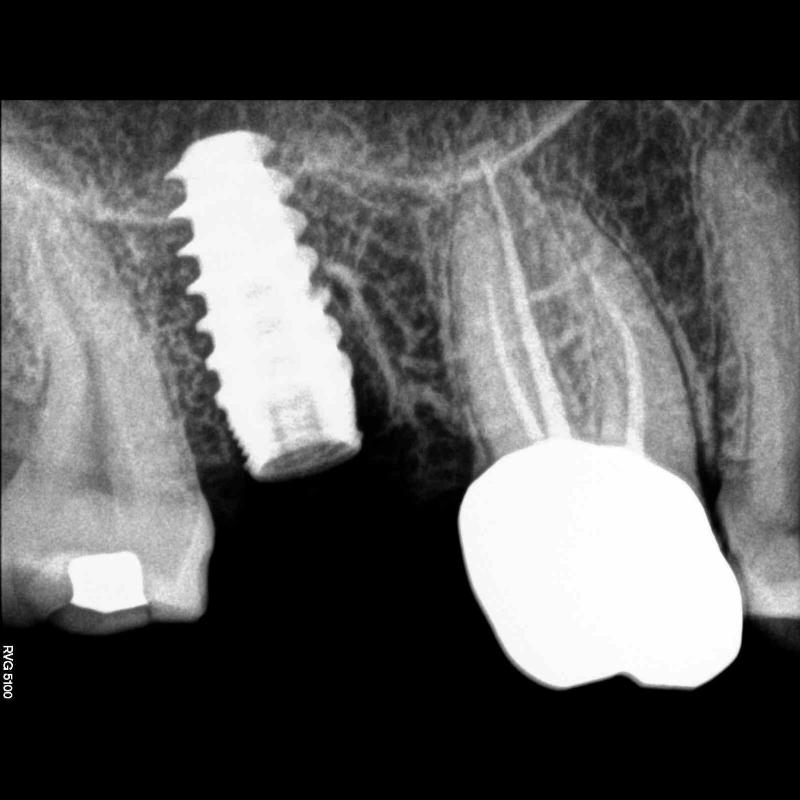NORIS: (161, 127, 365, 481)
